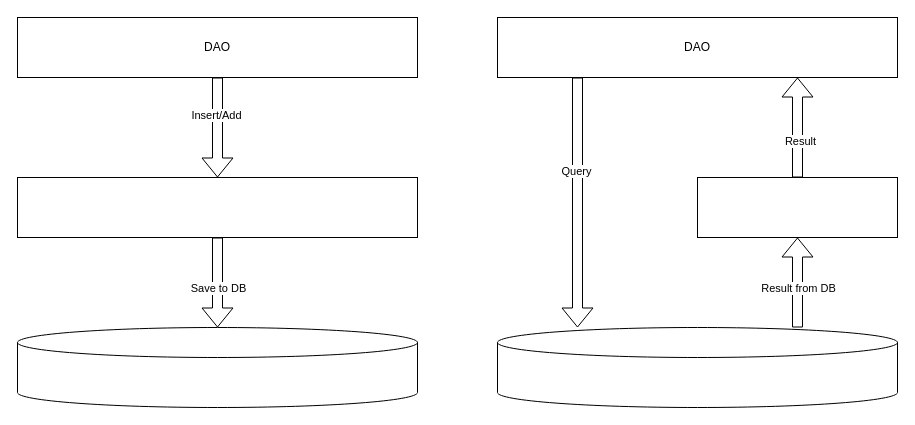
The diagram is 915 pixels wide and 425 high, and some of its shapes have lost their labels. The shapes that lost their labels are listed below. From the top down, each one's box as (x1, y1, x2, y2) in pixels, then its label:
(16, 176, 418, 238): Interceptor（AES encrypt）
(696, 176, 898, 238): Interceptor（AES decrypt）
